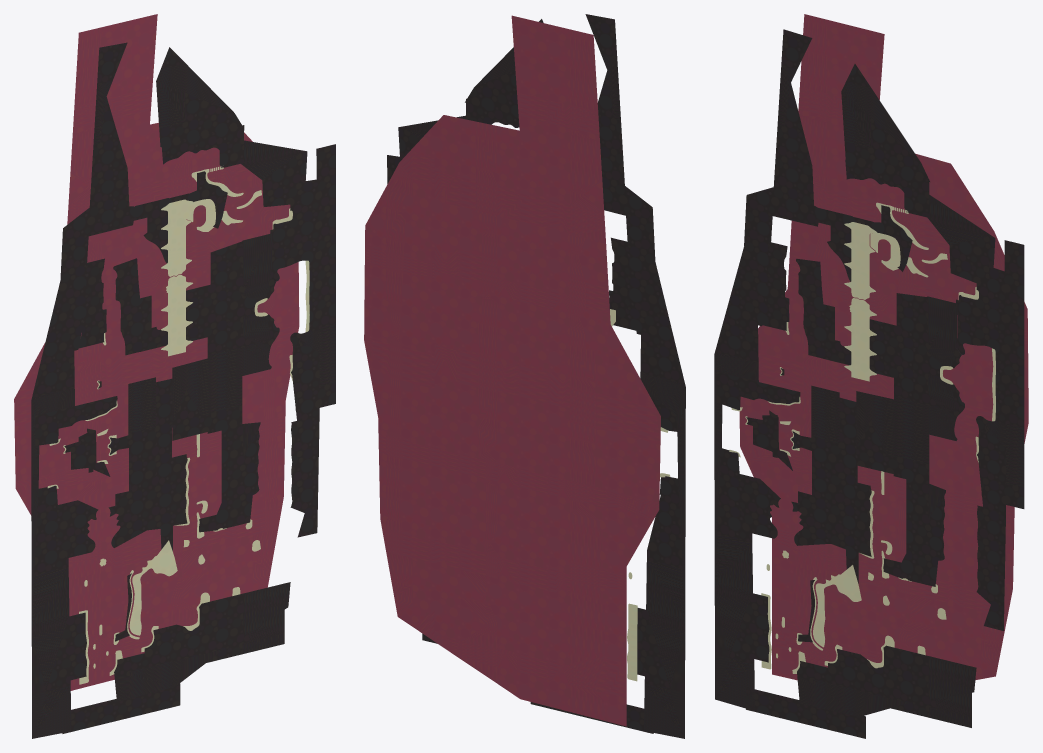
The model's file is bombmuch.glb.
3 renders of one model, left to right at view 1: azimuth 30°, elevation 25°; view 2: azimuth 150°, elevation 25°; view 3: azimuth 330°, elevation 25°, orthographic. The views are drawn at different scales.
Visible parts, largest first — view 1: bombmuch; view 2: bombmuch; view 3: bombmuch.
Part boxes in pixels (x1,y1,x2,y2): bombmuch: (14, 14, 335, 738); bombmuch: (364, 14, 685, 738); bombmuch: (714, 14, 1028, 738).
Size of the model in its own units: 2148 by 4563 by 263.
Materials: 3 (3 with a texture image).
